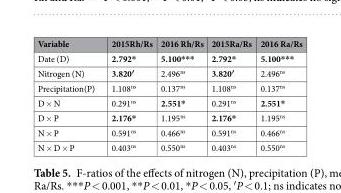table: (36, 36, 301, 153)
table column: (36, 36, 102, 153), (102, 36, 155, 153), (155, 36, 206, 153), (206, 36, 255, 153), (255, 36, 301, 153)
table column header: (36, 36, 301, 50)
table row: (36, 94, 301, 110), (36, 50, 301, 65), (36, 65, 301, 80), (36, 110, 301, 125), (36, 36, 301, 50), (36, 80, 301, 94), (36, 125, 301, 139), (36, 139, 301, 153)
